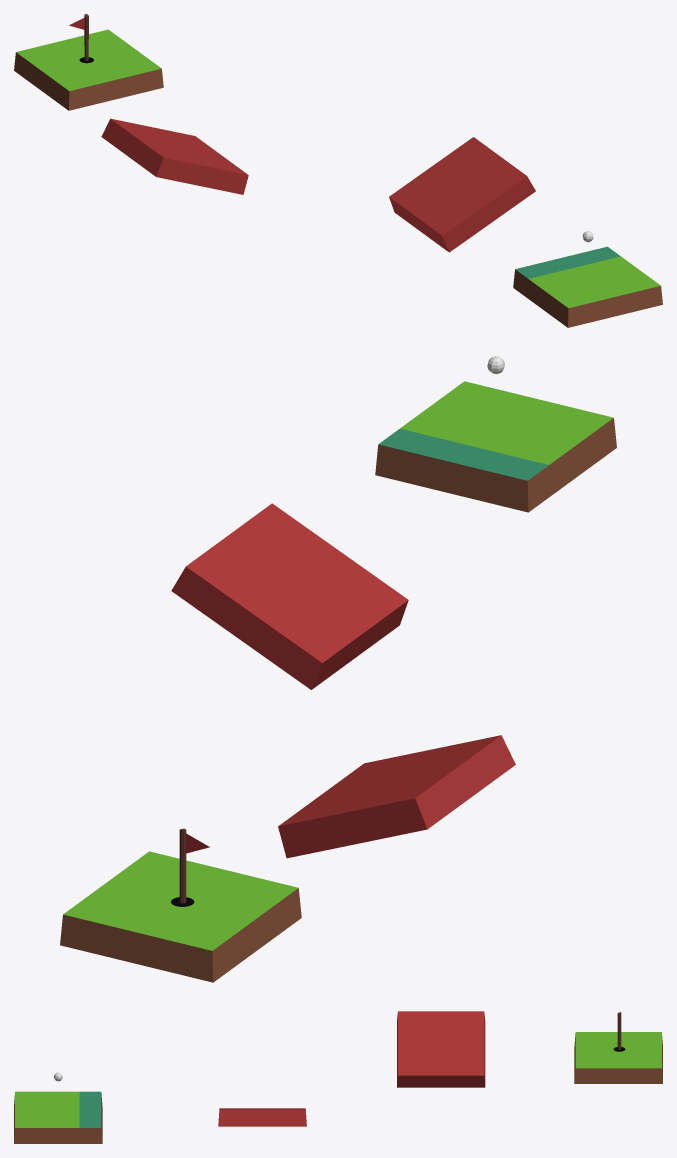
The model's file is level8.glb.
3 renders of one model, top to bottom at view 1: azimuth 30°, elevation 25°; view 2: azimuth 150°, elevation 25°; view 3: azimuth 270°, elevation 25°, orthographic. The views are drawn at different scales.
Parts seen in each view (by area): view 1: bouncepad, basic-moveable.001, basic-fixed.001, bouncepad.001; view 2: bouncepad, basic-moveable.001, basic-fixed.001, bouncepad.001, flag; view 3: bouncepad.001, basic-moveable.001, basic-fixed.001, bouncepad, flag.
Boxes of the visible parts, x1,y1,x2,y2 form: bouncepad: (389, 137, 535, 252); basic-moveable.001: (513, 246, 662, 327); basic-fixed.001: (14, 29, 163, 110); bouncepad.001: (101, 118, 248, 194); bouncepad: (171, 503, 408, 689); basic-moveable.001: (375, 381, 616, 512); basic-fixed.001: (60, 851, 301, 982); bouncepad.001: (278, 735, 515, 858); flag: (171, 828, 209, 906); bouncepad.001: (397, 1011, 485, 1087); basic-moveable.001: (14, 1091, 102, 1143); basic-fixed.001: (574, 1032, 662, 1083); bouncepad: (218, 1108, 306, 1126); flag: (613, 1012, 625, 1051).
Size of the model in its own units: 5.68 by 1.69 by 14.67.
Materials: 4 (4 with a texture image).
